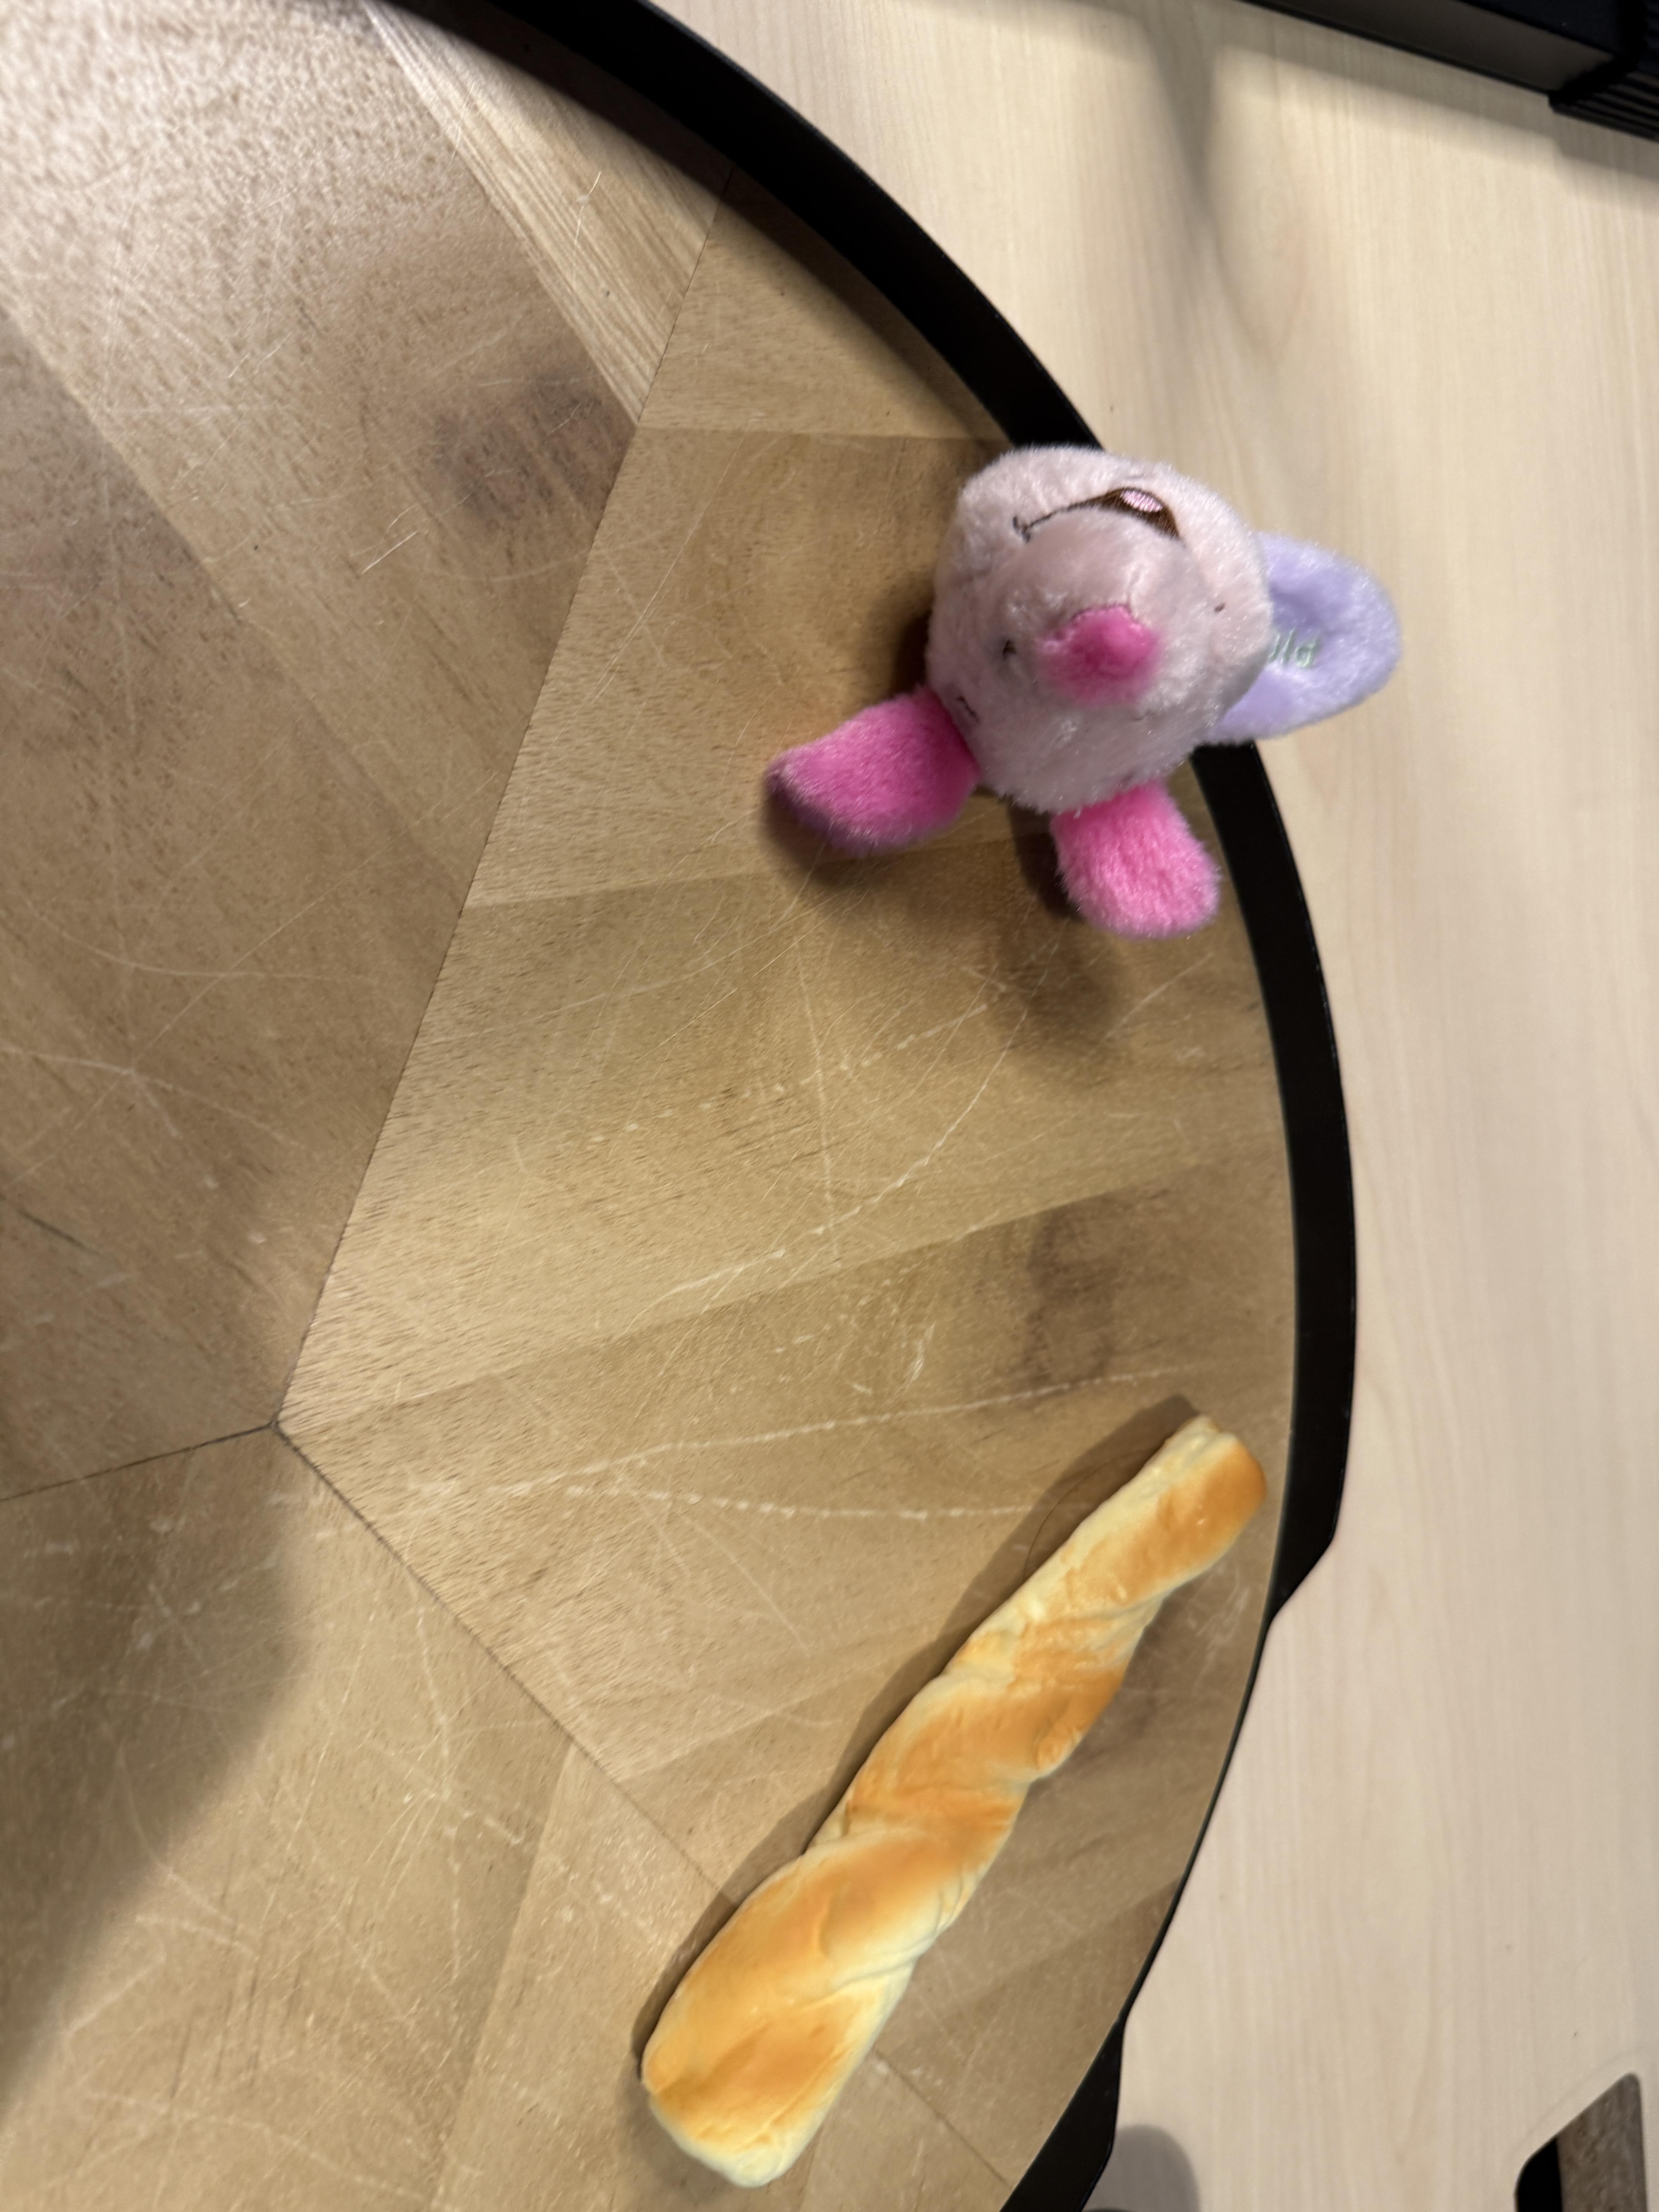bread: (631, 1418, 1265, 2196)
doll: (770, 441, 1408, 944)
